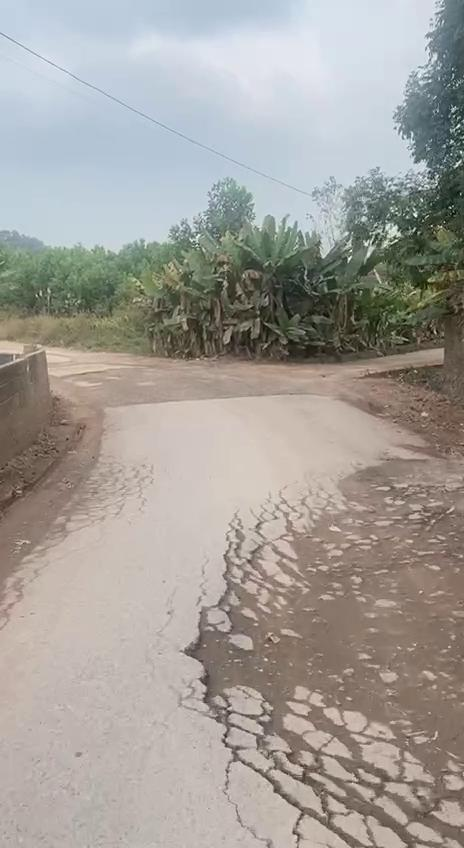pothole: (186, 450, 464, 834)
